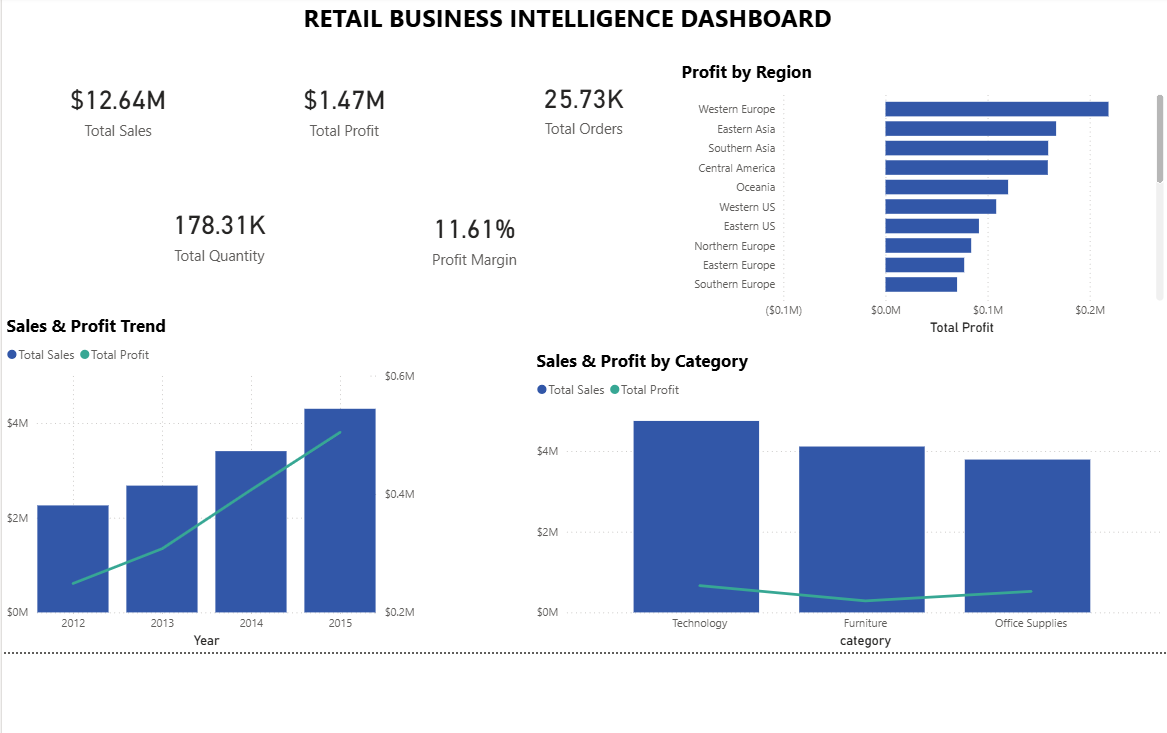

Layout of this report page (visuals, bound fields, positions):
{"tool":"powerbi","page":{"name":"Executive Overview","canvas":[1280,720],"ordinal":0},"visuals":[{"type":"card","fields":{"Values":["retail_intelligence retail_sales.Total Sales"]},"box":[16.5,23.3,222.3,200.3],"z":0},{"type":"card","fields":{"Values":["retail_intelligence retail_sales.Total Quantity"]},"box":[127.6,171.5,222.3,177],"z":1000},{"type":"card","fields":{"Values":["retail_intelligence retail_sales.Total Profit"]},"box":[238.8,37,274.4,172.9],"z":2000},{"type":"card","fields":{"Values":["retail_intelligence retail_sales.Profit Margin"]},"box":[376,171.5,285.4,186.6],"z":3000},{"type":"card","fields":{"Values":["retail_intelligence retail_sales.Total Orders"]},"box":[492.6,42.5,292.3,157.8],"z":4000},{"type":"lineClusteredColumnComboChart","title":"Sales & Profit Trend","fields":{"Category":["DateTable.Year"],"Y":["retail_intelligence retail_sales.Total Sales"],"Y2":["retail_intelligence retail_sales.Total Profit"]},"box":[0,348.5,458.3,371.9],"z":5000},{"type":"lineClusteredColumnComboChart","title":"Sales & Profit by Category","fields":{"Category":["retail_intelligence retail_sales.category"],"Y":["retail_intelligence retail_sales.Total Sales"],"Y2":["retail_intelligence retail_sales.Total Profit"]},"box":[581.8,387,698.5,333.4],"z":6000},{"type":"barChart","title":"Profit by Region","fields":{"Y":["retail_intelligence retail_sales.Total Profit"],"Category":["retail_intelligence retail_sales.region"]},"box":[741,70,539.3,307.4],"z":7000},{"type":"textbox","box":[0,0,1241.9,54.9],"z":7001}]}

Visuals, with their boxes on the page's 1280x720 design canvas (x1, y1, x2, y2). These are canvas units, not pixel positions in the 1167x733 screenshot, which may show the page scaled, cropped or inside an application window:
card - retail_intelligence retail_sales.Total Sales: box(16, 23, 239, 224)
card - retail_intelligence retail_sales.Total Quantity: box(128, 172, 350, 348)
card - retail_intelligence retail_sales.Total Profit: box(239, 37, 513, 210)
card - retail_intelligence retail_sales.Profit Margin: box(376, 172, 661, 358)
card - retail_intelligence retail_sales.Total Orders: box(493, 42, 785, 200)
"Sales & Profit Trend" lineClusteredColumnComboChart: box(0, 348, 458, 720)
"Sales & Profit by Category" lineClusteredColumnComboChart: box(582, 387, 1280, 720)
"Profit by Region" barChart: box(741, 70, 1280, 377)
textbox: box(0, 0, 1242, 55)
